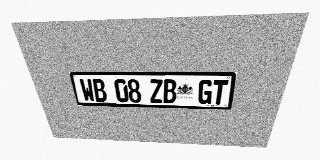0: (114, 79, 129, 102)
8: (127, 79, 142, 103)
B: (91, 79, 108, 102), (163, 79, 176, 103)
G: (197, 80, 214, 104)
T: (211, 80, 229, 105)
W: (79, 79, 96, 102)
Z: (149, 79, 163, 103)
